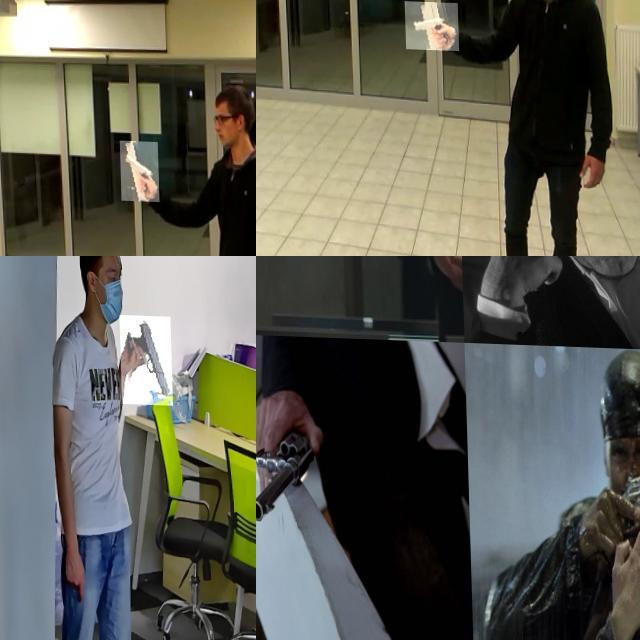gun-knife-thesis - v11 Yolov5 augmented: (580, 445, 640, 609), (256, 392, 316, 521), (118, 312, 171, 402), (501, 256, 562, 323), (402, 0, 456, 48), (119, 138, 158, 200), (279, 256, 331, 296)
